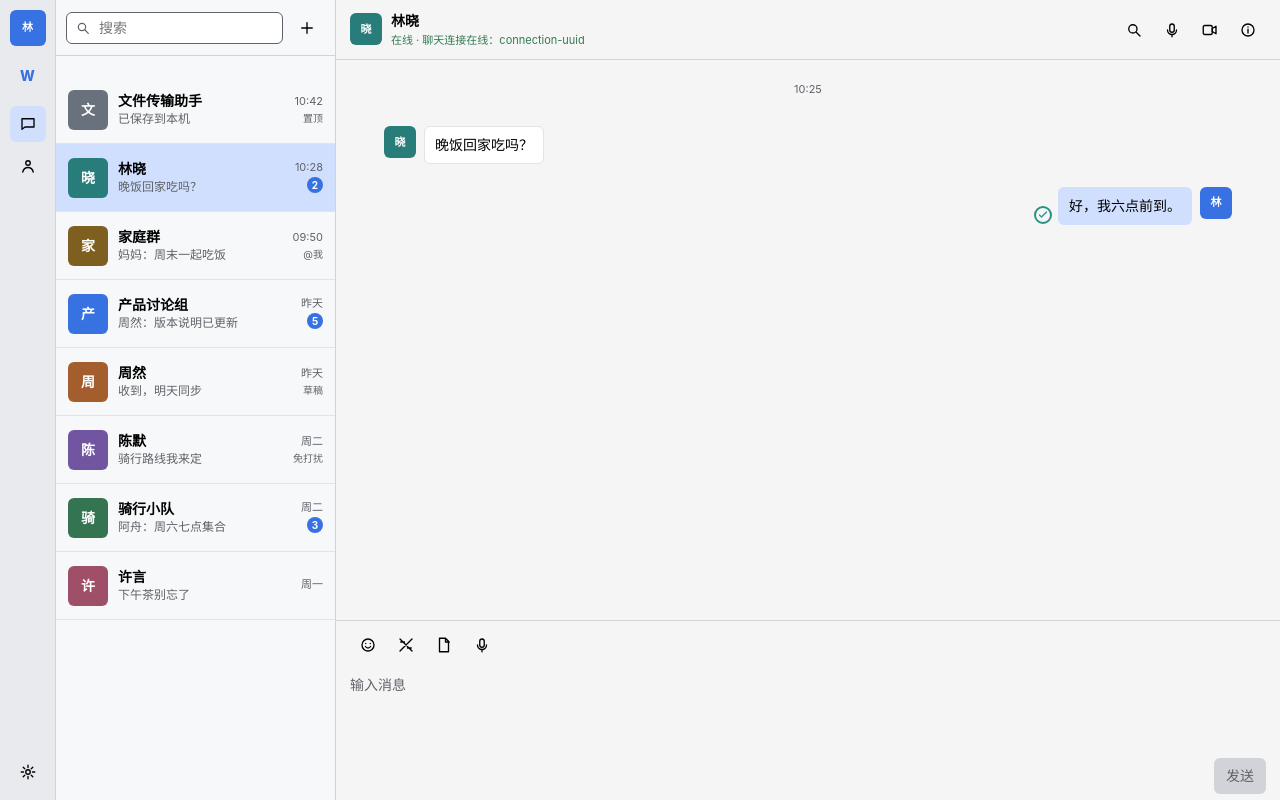
Test: AuthenticatedShell › shows preview feedback for tools without filtering mock sessions
This screenshot has width=1280, height=800.
In the search field named "搜索会话": (186, 28) [97,17,274,38], type "不存在的联系人"
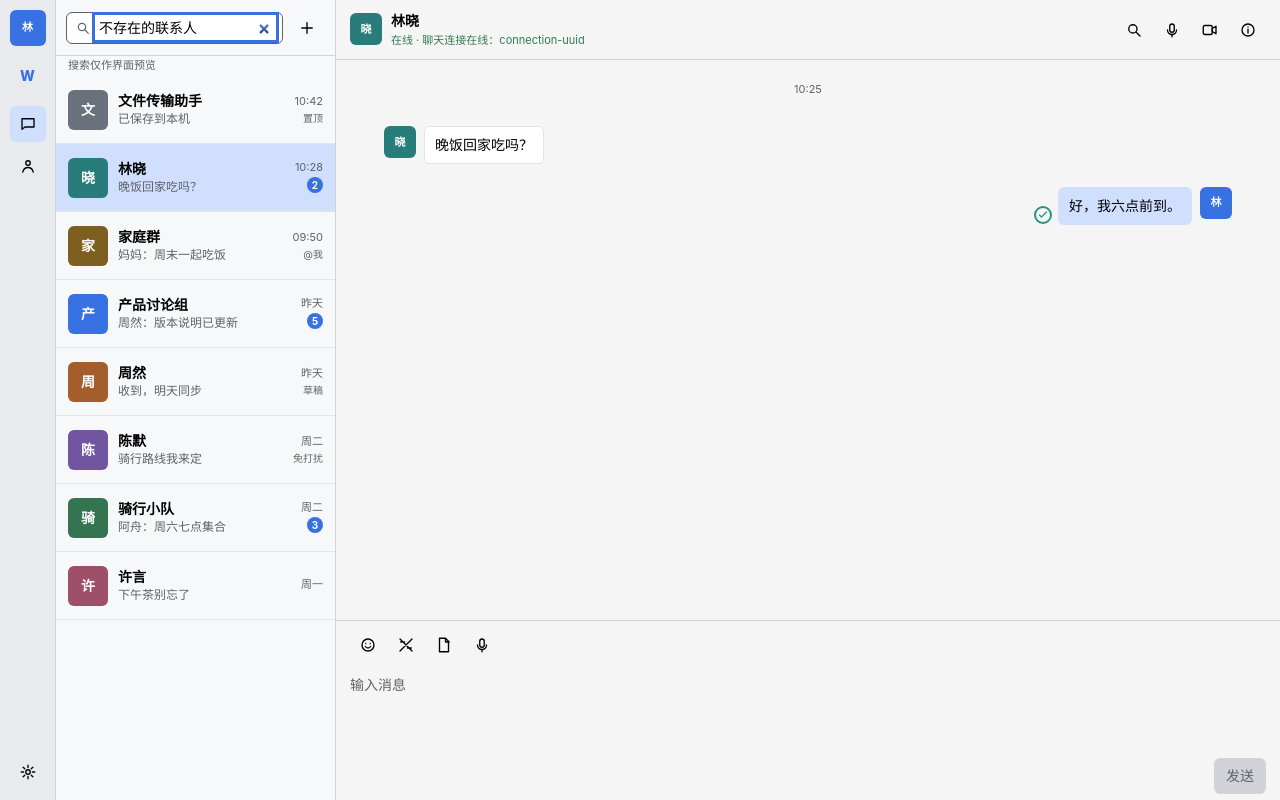
Now the text "搜索仅作界面预览" is shown, box [68,58,156,72]
Click the button named "截图": (406, 645) [388,627,424,663]
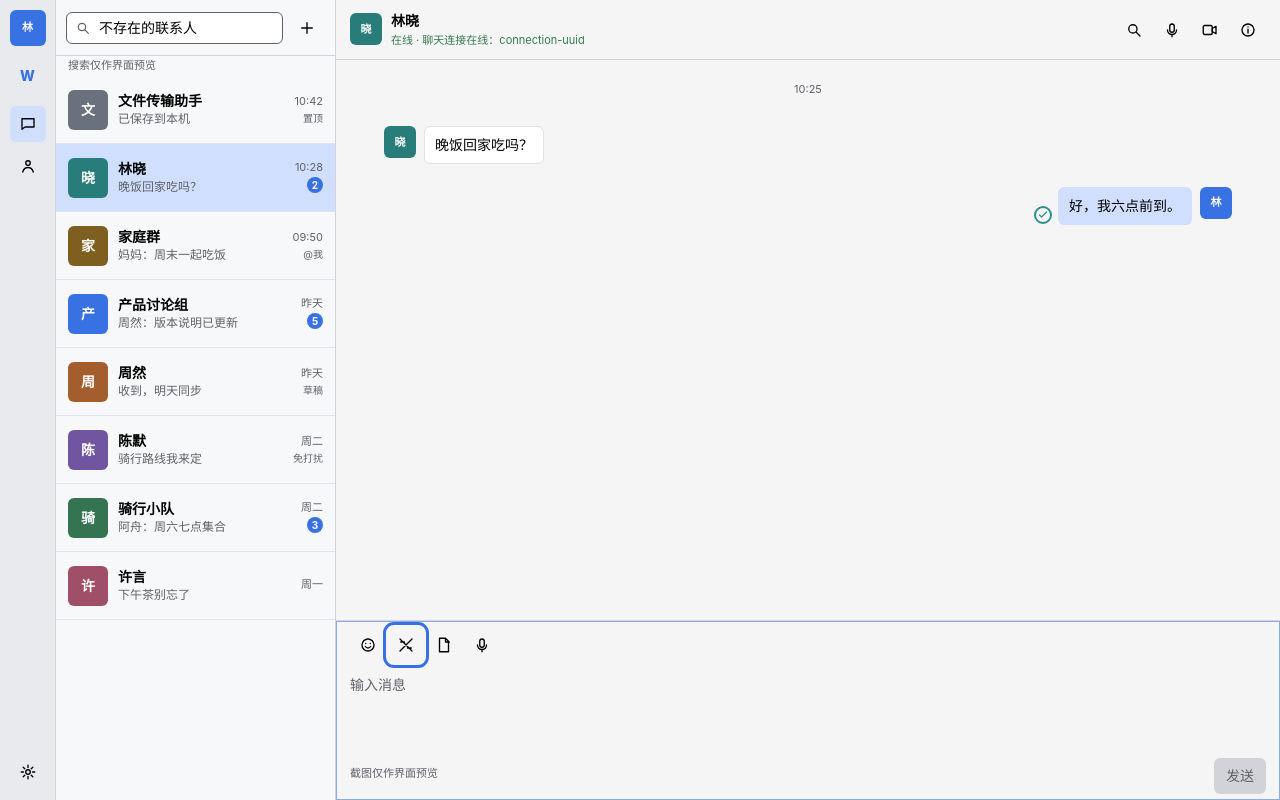
Now the text "截图仅作界面预览" is shown, box [350,766,438,780]
Click the button named "设置": (28, 772) [10,754,46,790]
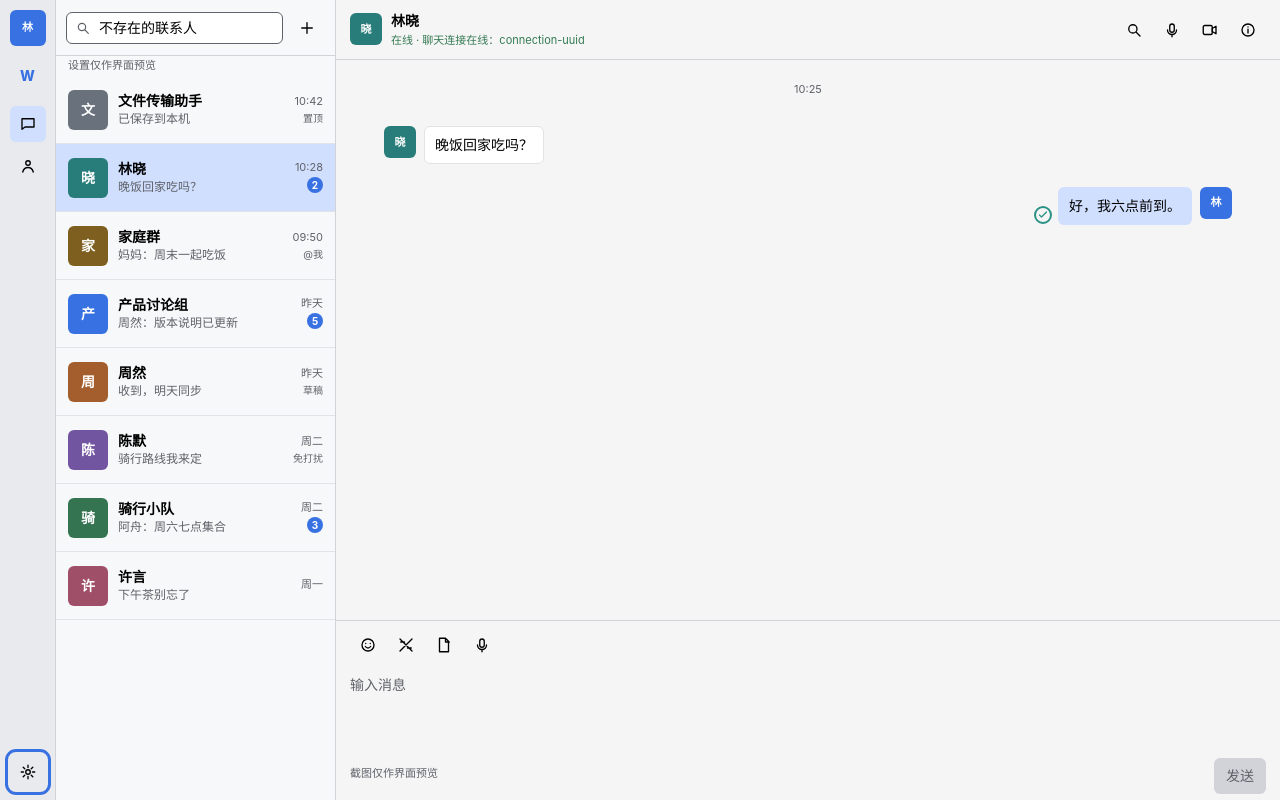
Now the text "设置仅作界面预览" is shown, box [68,58,156,72]
